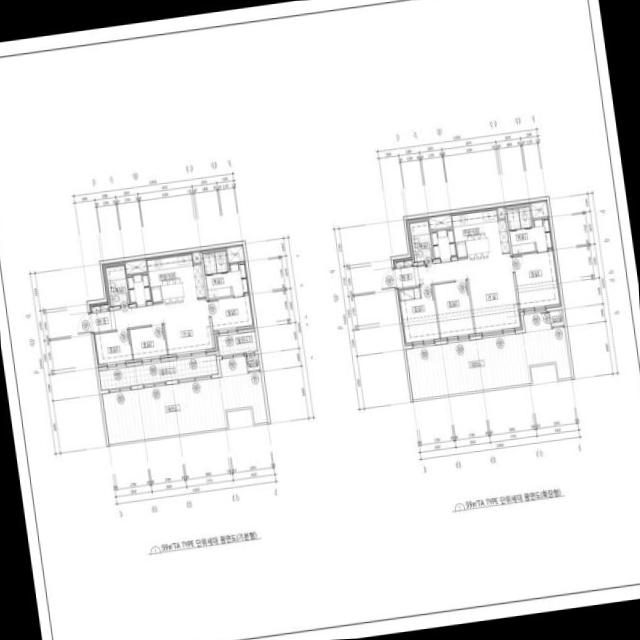background: (0, 0, 640, 640)
space_balconi: (406, 311, 571, 399), (102, 356, 267, 444), (99, 354, 218, 390), (217, 331, 257, 355)
space_bedroom: (512, 250, 561, 311), (397, 285, 440, 345), (433, 280, 474, 340), (208, 295, 254, 333), (93, 330, 133, 367), (129, 325, 167, 362)
space_dressroom: (509, 227, 535, 254), (228, 262, 249, 295), (532, 217, 553, 250), (205, 272, 231, 298)
space_front: (393, 257, 420, 288), (89, 302, 116, 333)
space_kitchen: (146, 252, 206, 303), (451, 207, 510, 258)
space_living_room: (417, 253, 522, 335), (113, 298, 213, 357)
space_other: (431, 228, 456, 259), (127, 273, 151, 304), (429, 213, 452, 230), (125, 258, 147, 274), (530, 200, 549, 218), (226, 244, 245, 262), (192, 251, 201, 263), (497, 206, 505, 218)
space_outdoor_room: (246, 352, 260, 371), (550, 310, 564, 326)
space_toilet: (105, 264, 130, 307), (409, 220, 433, 262), (202, 252, 216, 274), (506, 208, 520, 230), (518, 206, 532, 228), (214, 251, 228, 273)
